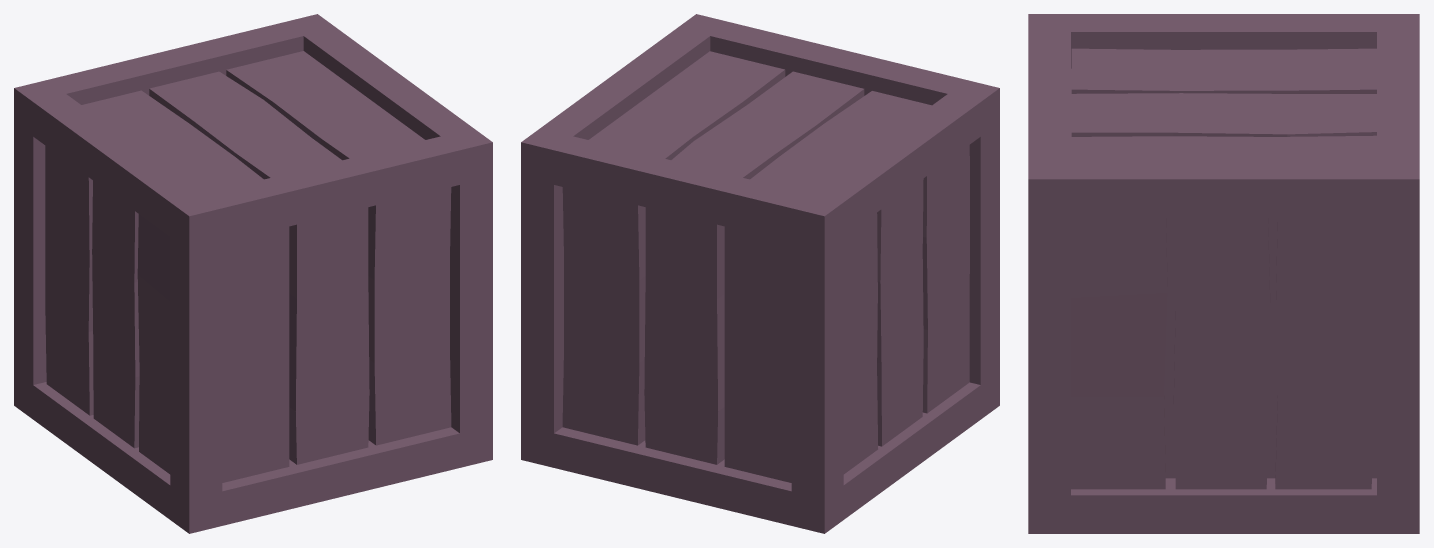
Rendered from Crate01.fbx.
The picture shows the model from 3 angles, left to right: view 1: azimuth 30°, elevation 25°; view 2: azimuth 150°, elevation 25°; view 3: azimuth 270°, elevation 25°; orthographic projection. The views are drawn at different scales.
Visible parts, largest first — view 1: Cube, Cube.001, Cube.002, Cube.003; view 2: Cube, Cube.001, Cube.002, Cube.003; view 3: Cube, Cube.002, Cube.003.
Part boxes in pixels (bbox=[...]): Cube: bbox=[14, 14, 492, 533]; Cube.001: bbox=[222, 187, 451, 482]; Cube.002: bbox=[45, 146, 170, 474]; Cube.003: bbox=[81, 51, 424, 194]; Cube: bbox=[521, 14, 999, 533]; Cube.001: bbox=[562, 187, 791, 482]; Cube.002: bbox=[843, 145, 969, 474]; Cube.003: bbox=[589, 51, 931, 194]; Cube: bbox=[1028, 14, 1419, 533]; Cube.002: bbox=[1071, 218, 1374, 489]; Cube.003: bbox=[1071, 48, 1376, 161].
Size of the model in its own units: 106 by 106 by 106.
1 material, 1 textured.
